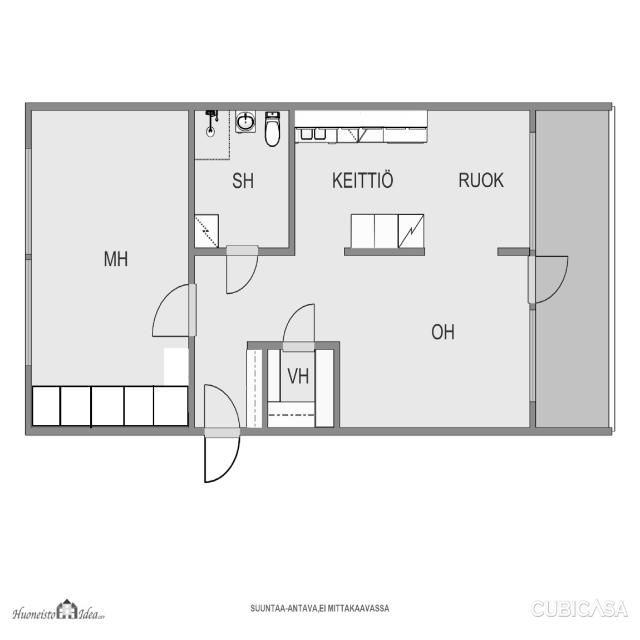door: (200, 376, 243, 488), (140, 284, 203, 340), (520, 248, 576, 306), (284, 297, 320, 356), (223, 242, 260, 298)
window: (19, 140, 38, 380), (526, 122, 540, 250), (526, 304, 540, 402)
zone: (23, 103, 196, 431), (290, 106, 534, 253), (343, 253, 533, 429), (186, 103, 292, 252), (260, 345, 338, 431)
